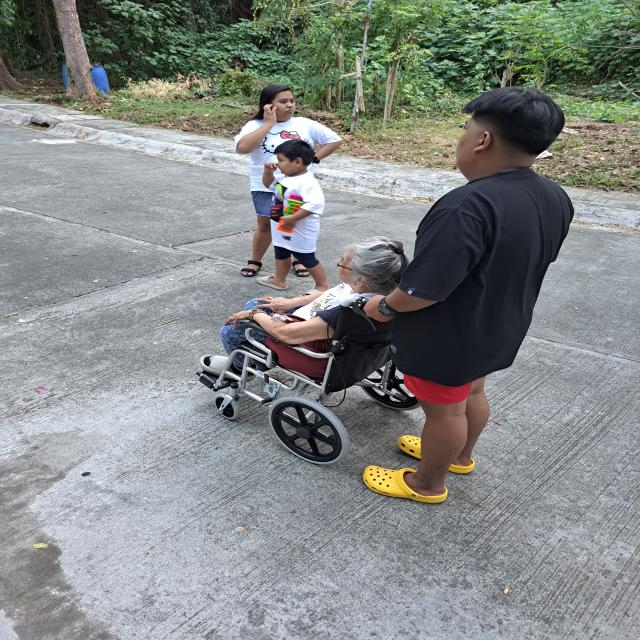wheelchairs: (197, 268, 434, 468)
